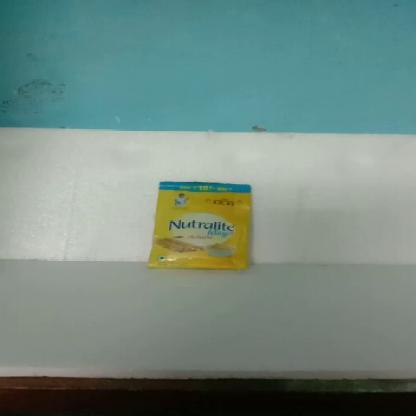Nutralite ACHARI MAYO 30g: (158, 183, 250, 268)
